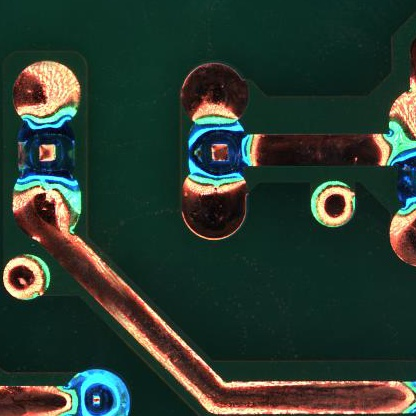spot: (17, 118, 78, 187), (186, 117, 246, 183), (67, 367, 131, 416)
